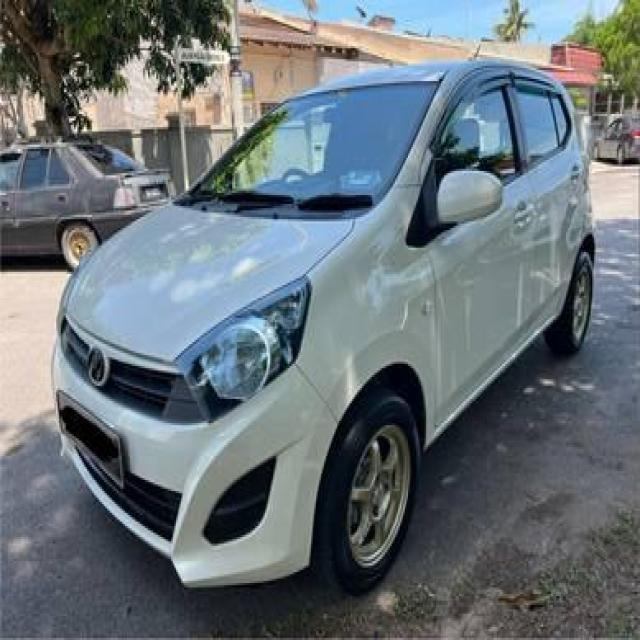PeroduaAxia: (49, 56, 597, 595)
